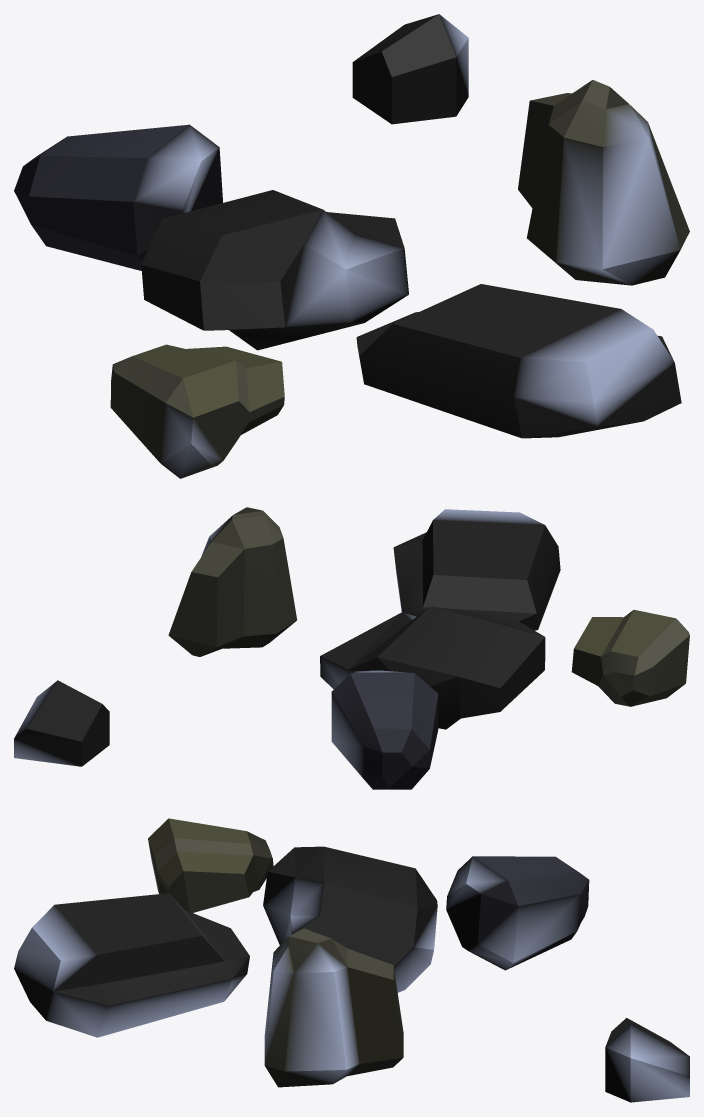
The model's file is Stones_01.fbx.
3 views of the same model, one above another, from view 1: azimuth 30°, elevation 25°; view 2: azimuth 150°, elevation 25°; view 3: azimuth 270°, elevation 25° (orthographic). The views are drawn at different scales.
Parts seen in each view (by area): view 1: Stones_01; view 2: Stones_01; view 3: Stones_01.
Part boxes in pixels (x1,y1,x2,y2): Stones_01: (14, 14, 689, 478); Stones_01: (14, 507, 689, 789); Stones_01: (14, 818, 689, 1102).
Size of the model in its own units: 1651 by 517 by 2107.
